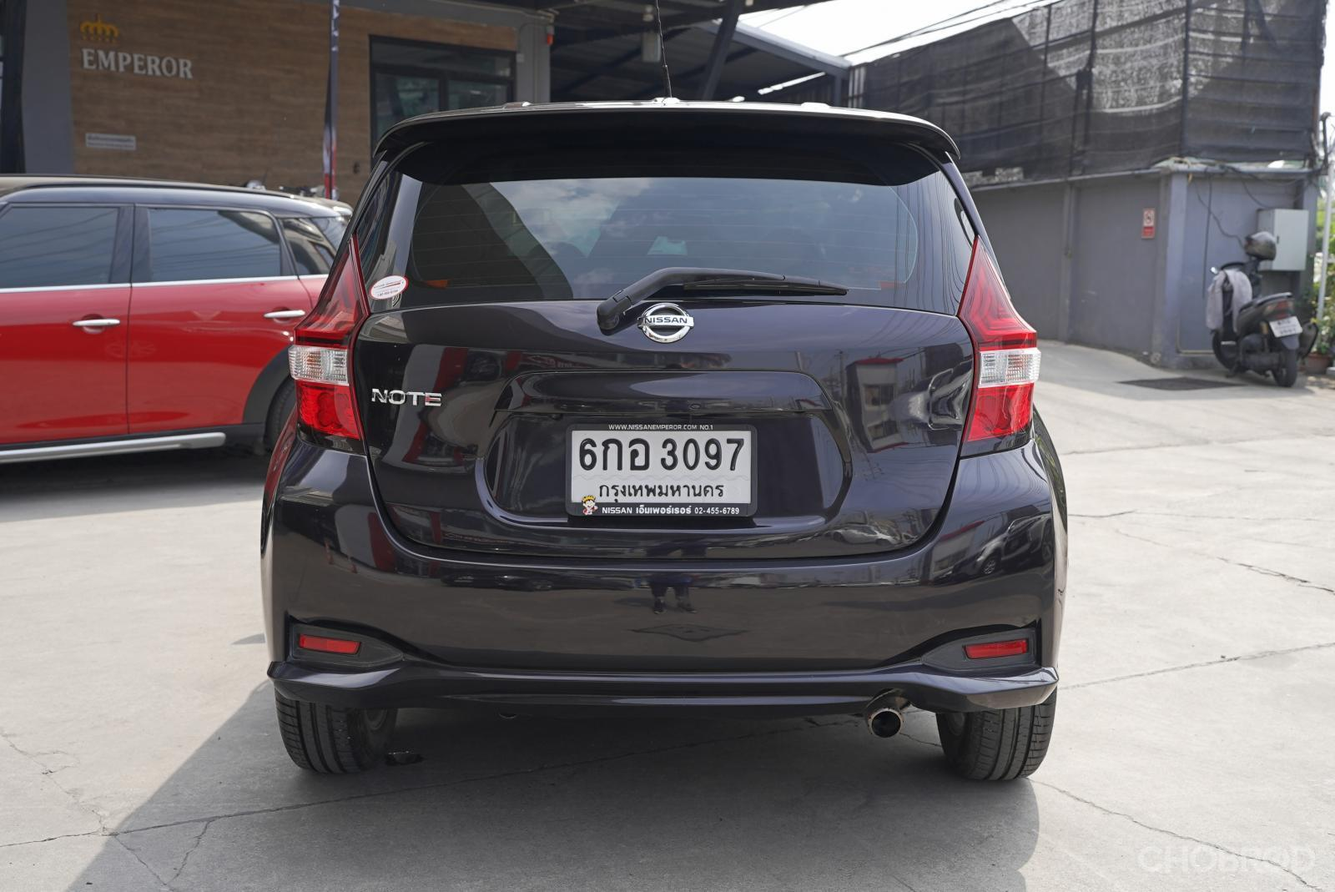license-plate: (556, 409, 765, 524)
